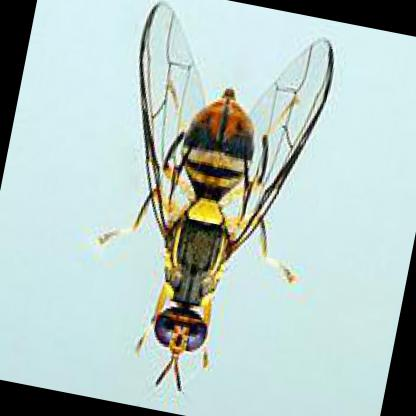fruit fly: (138, 2, 334, 393)
